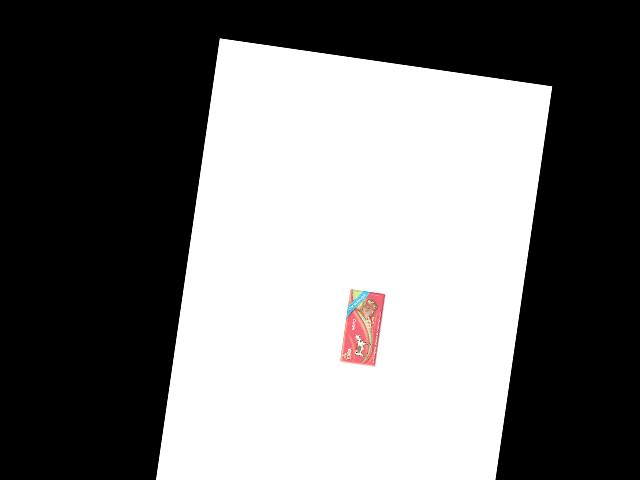chocolate: (339, 289, 384, 369)
